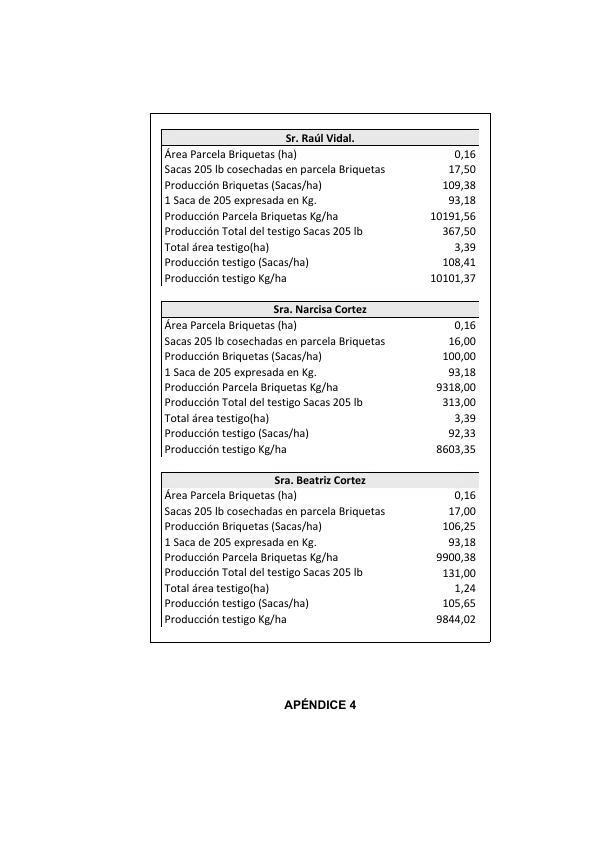table: (146, 108, 496, 647)
text: (283, 697, 358, 718)
